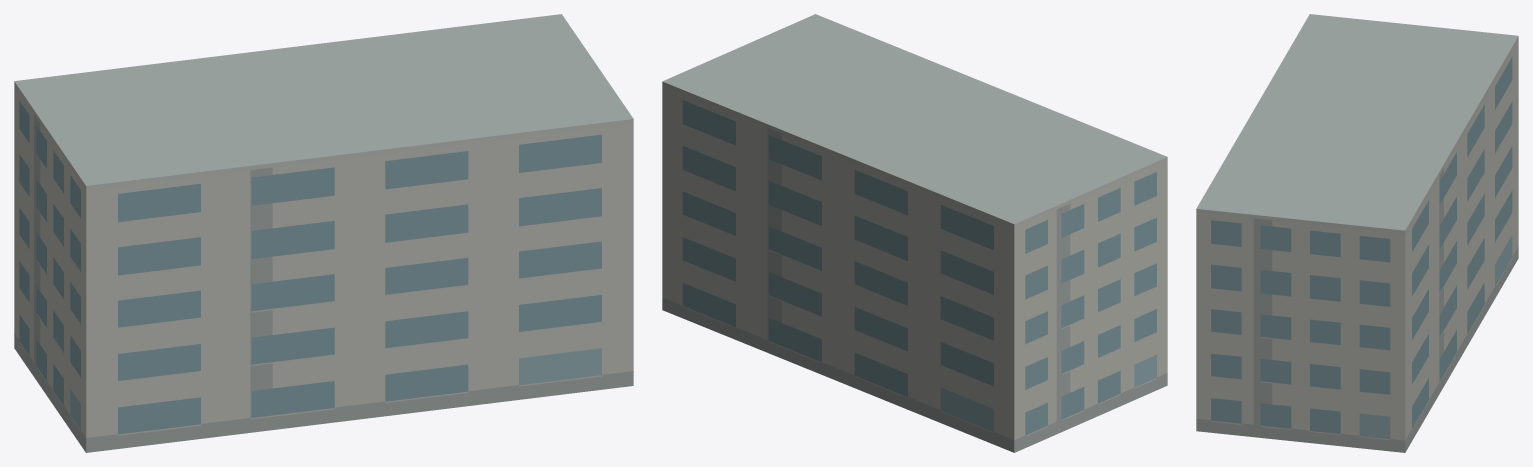
The model's file is residential-aa038c7a-099e-4969-96ad-960cb2bb546c.glb.
3 renders of one model, left to right at view 1: azimuth 30°, elevation 25°; view 2: azimuth 150°, elevation 25°; view 3: azimuth 270°, elevation 25°, orthographic. The views are drawn at different scales.
Visible parts, largest first — view 1: residential-aa038c7a-099e-4969-96ad-960cb2bb546c.tmp; view 2: residential-aa038c7a-099e-4969-96ad-960cb2bb546c.tmp; view 3: residential-aa038c7a-099e-4969-96ad-960cb2bb546c.tmp.
Boxes of the visible parts, x1,y1,x2,y2 form: residential-aa038c7a-099e-4969-96ad-960cb2bb546c.tmp: (14, 14, 633, 452); residential-aa038c7a-099e-4969-96ad-960cb2bb546c.tmp: (662, 14, 1167, 452); residential-aa038c7a-099e-4969-96ad-960cb2bb546c.tmp: (1196, 14, 1518, 452).
Size of the model in its own units: 31.88 by 15.25 by 20.06.
